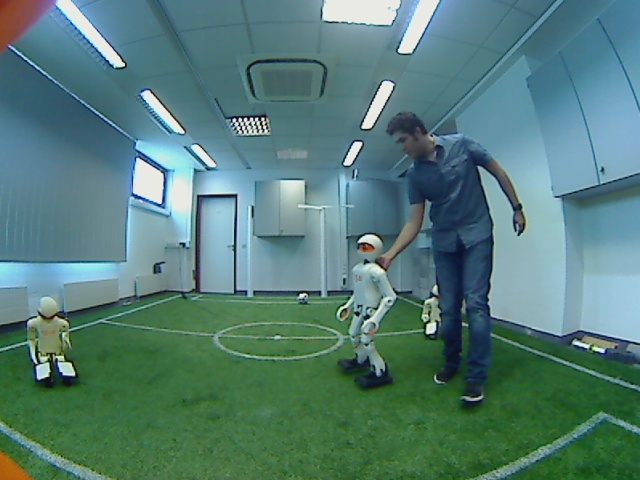ball: (293, 289, 315, 309)
robot: (338, 234, 396, 390), (22, 292, 84, 386), (420, 281, 446, 343)
